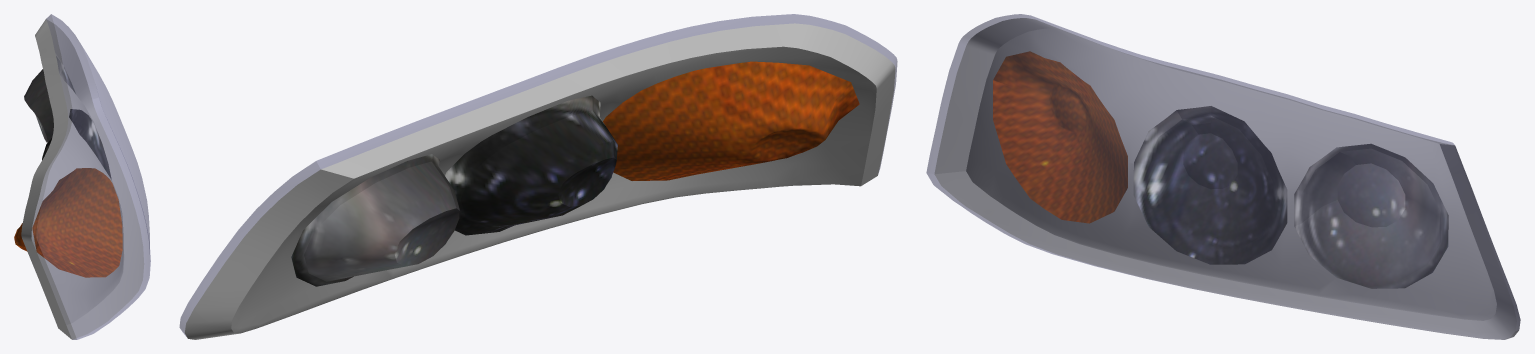
3 views of the same model, side by side, from view 1: azimuth 30°, elevation 25°; view 2: azimuth 150°, elevation 25°; view 3: azimuth 270°, elevation 25° (orthographic). The views are drawn at different scales.
Parts seen in each view (by area): view 1: U416_061B_R_U416_061B_R_5_DTaSI, U416_061B_R_U416_061B_R_4_DaS, U416_061B_R_1_N_U416_061B_R, U416_061B_R_U416_061B_R_3_N, U416_061B_R_U416_061B_R_2_N; view 2: U416_061B_R_U416_061B_R_4_DaS, U416_061B_R_1_N_U416_061B_R, U416_061B_R_U416_061B_R_2_N, U416_061B_R_U416_061B_R_3_N, U416_061B_R_U416_061B_R_5_DTaSI; view 3: U416_061B_R_U416_061B_R_5_DTaSI, U416_061B_R_U416_061B_R_4_DaS, U416_061B_R_U416_061B_R_2_N, U416_061B_R_U416_061B_R_3_N, U416_061B_R_1_N_U416_061B_R.
Part boxes in pixels (x1,y1,x2,y2): U416_061B_R_U416_061B_R_5_DTaSI: [31, 14, 150, 339]; U416_061B_R_U416_061B_R_4_DaS: [21, 19, 144, 339]; U416_061B_R_1_N_U416_061B_R: [14, 168, 122, 277]; U416_061B_R_U416_061B_R_3_N: [24, 56, 75, 142]; U416_061B_R_U416_061B_R_2_N: [42, 109, 111, 179]; U416_061B_R_U416_061B_R_4_DaS: [184, 23, 895, 339]; U416_061B_R_1_N_U416_061B_R: [603, 61, 859, 180]; U416_061B_R_U416_061B_R_2_N: [445, 95, 617, 235]; U416_061B_R_U416_061B_R_3_N: [291, 154, 459, 286]; U416_061B_R_U416_061B_R_5_DTaSI: [179, 14, 897, 336]; U416_061B_R_U416_061B_R_5_DTaSI: [926, 14, 1520, 339]; U416_061B_R_U416_061B_R_4_DaS: [934, 18, 1520, 339]; U416_061B_R_U416_061B_R_2_N: [1133, 106, 1287, 264]; U416_061B_R_U416_061B_R_3_N: [1294, 144, 1448, 288]; U416_061B_R_1_N_U416_061B_R: [993, 51, 1127, 223].
Bounding box in the file's own units: 35.57 × 17.93 × 51.57.
